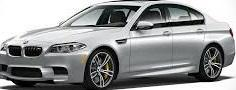Cars: (1, 2, 236, 90)
